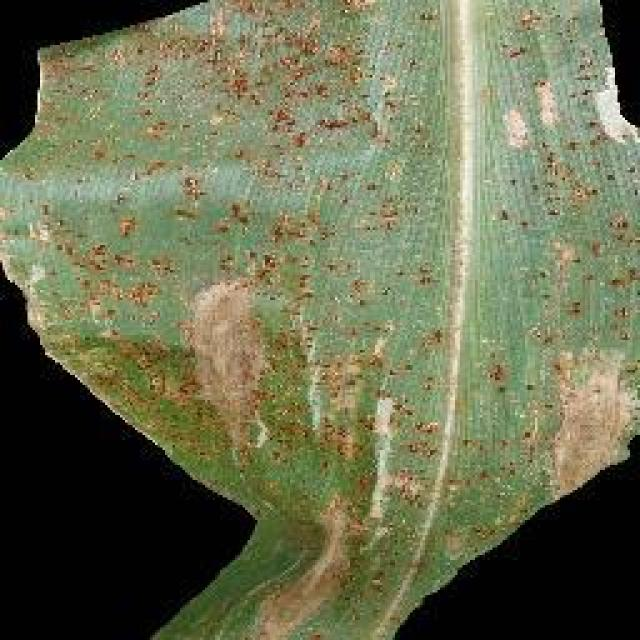Corn Common Rust: (117, 42, 528, 538)
